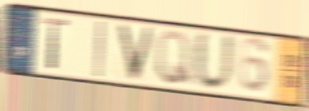6: (239, 35, 272, 100)
I: (94, 19, 107, 80)
Q: (155, 28, 195, 88)
T: (41, 15, 71, 73)
U: (192, 28, 236, 94)
V: (115, 21, 158, 85)
